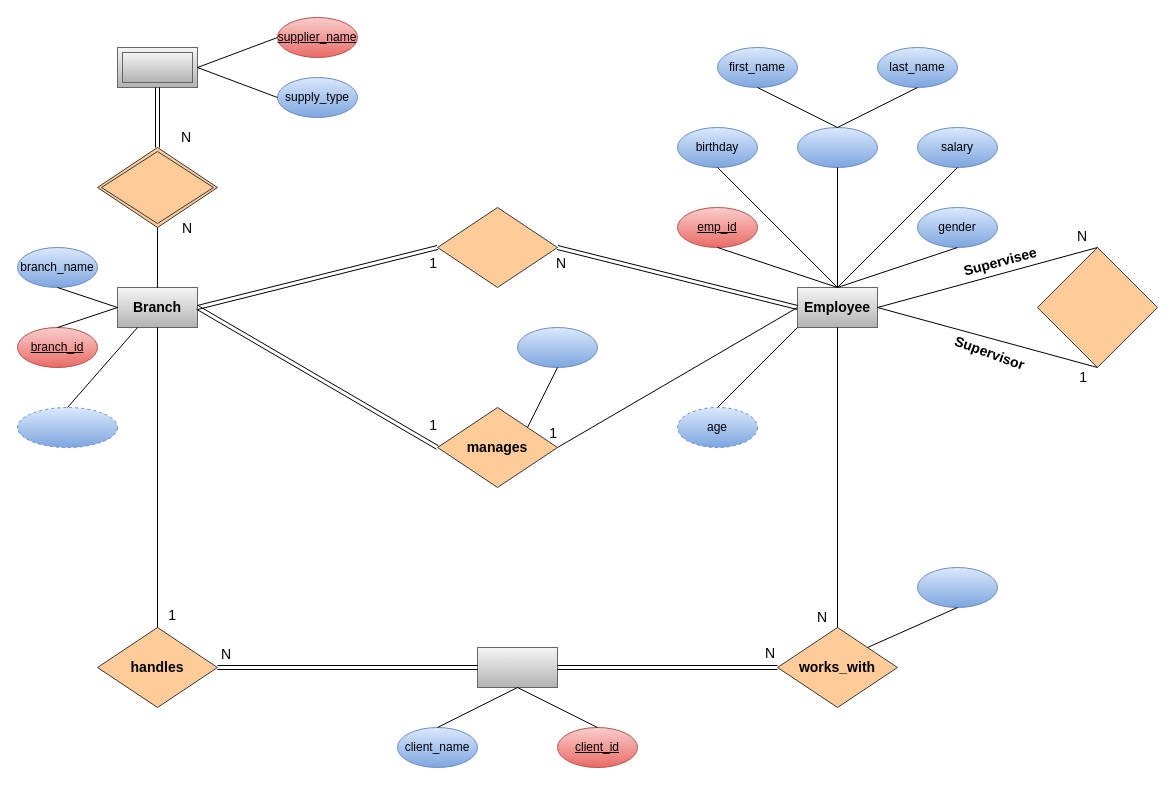
Image size: 1175x785. Some labels were removed from this diagram. The centre of each missing label's shape, as x and y in pixels:
"#_employees" goes at [67,427].
"Branch Supplier" goes at [157,67].
"Client" goes at [517,667].
"name" goes at [837,147].
"sales" goes at [957,587].
"start_date" goes at [557,347].
"supervison" goes at [1097,307].
"supplies" goes at [157,187].
"works_for" goes at [497,247].
